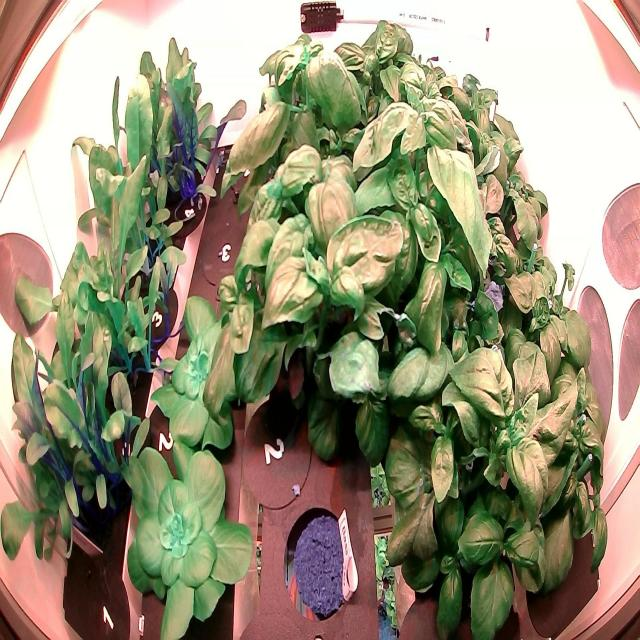empty_pod: (195, 201, 259, 296), (224, 121, 273, 207)
pod: (279, 497, 359, 634)
young: (116, 435, 255, 639), (146, 288, 250, 450)
